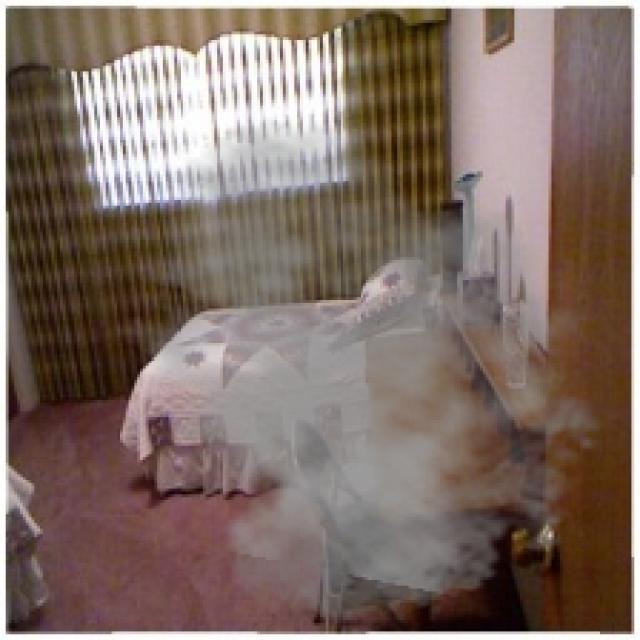smoke: (94, 117, 623, 632)
